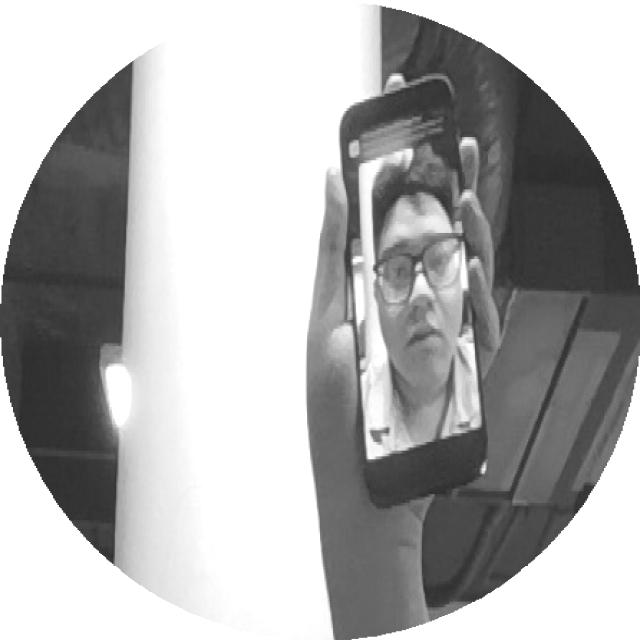fake: (319, 68, 535, 514), (337, 72, 514, 493)
